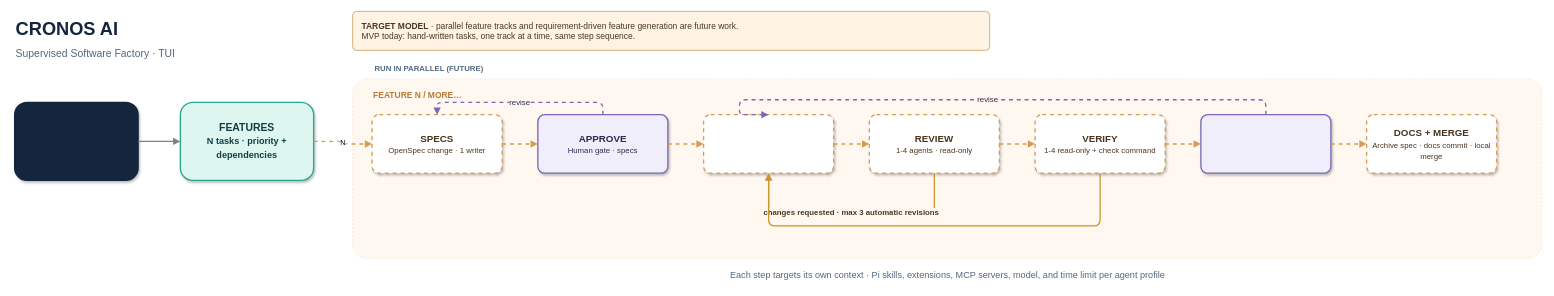
Some shapes in this 1554 by 296 pixel diagram are drawn without their labels. Here are the shapes that lost their labels. From the top down, the centre of each, then its label:
At point (76, 142): "PROJECT Product requirements".
At point (769, 144): "BUILD Code + tests · 1 writer".
At point (1266, 144): "APPROVE Human gate · final code".
